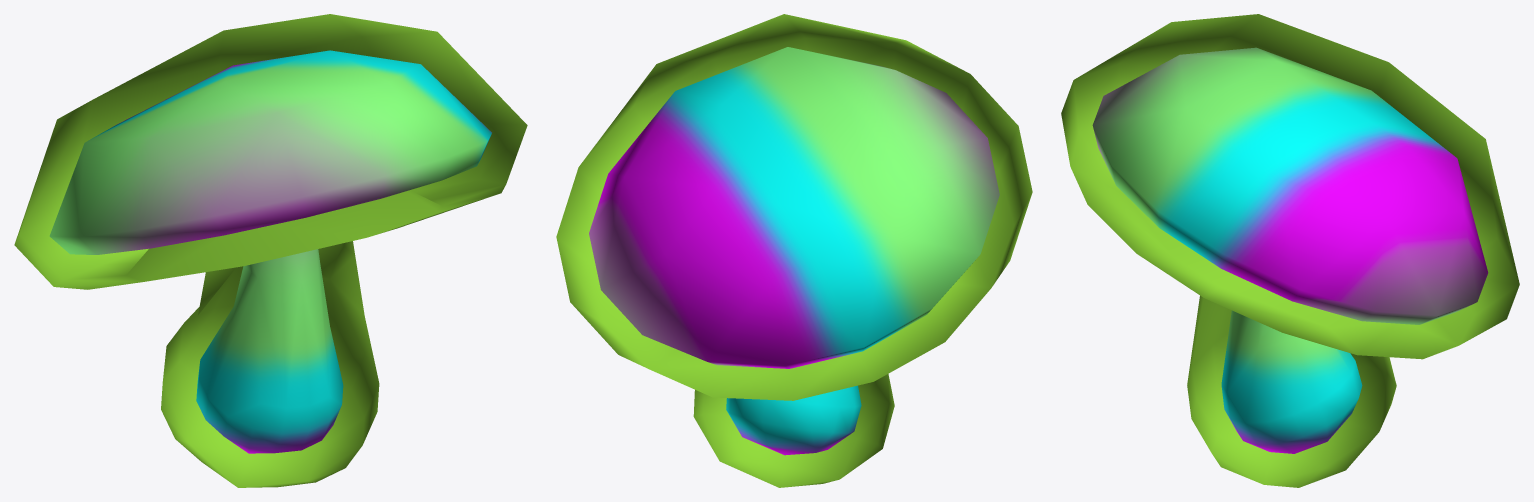
The model's file is HEALTH.fbx.
3 renders of one model, left to right at view 1: azimuth 30°, elevation 25°; view 2: azimuth 150°, elevation 25°; view 3: azimuth 270°, elevation 25°, orthographic. The views are drawn at different scales.
Visible parts, largest first — view 1: HEALTH; view 2: HEALTH; view 3: HEALTH.
Part boxes in pixels (x1,y1,x2,y2): HEALTH: (14,14,527,487); HEALTH: (556,14,1032,487); HEALTH: (1061,14,1519,487).
Bounding box in the file's own units: 3839 × 3598 × 3521.
